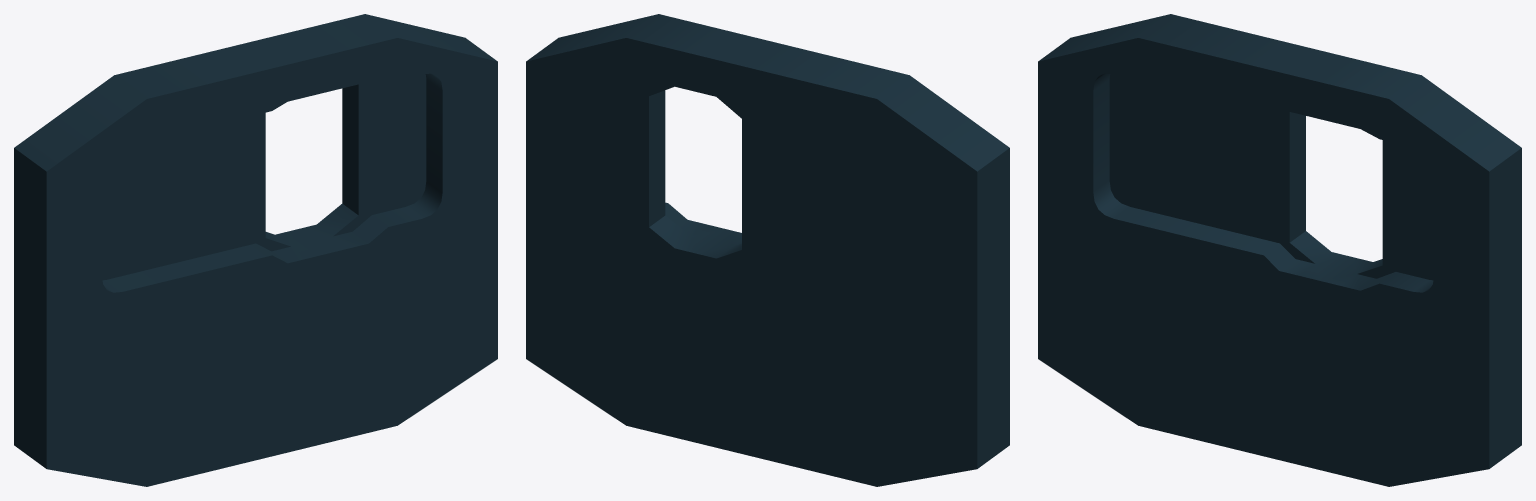
The model's file is Pereborka_SmallDoor_Top.FBX.
3 views of the same model, side by side, from view 1: azimuth 30°, elevation 25°; view 2: azimuth 150°, elevation 25°; view 3: azimuth 330°, elevation 25° (orthographic).
Parts seen in each view (by area): view 1: Pereborka_SmallDoor_Top; view 2: Pereborka_SmallDoor_Top; view 3: Pereborka_SmallDoor_Top.
Part boxes in pixels (box(x1,y1,x2,y2)): Pereborka_SmallDoor_Top: box(14, 14, 497, 486); Pereborka_SmallDoor_Top: box(526, 14, 1009, 486); Pereborka_SmallDoor_Top: box(1038, 14, 1521, 486).
Bounding box in the file's own units: 800 × 657 × 100.
